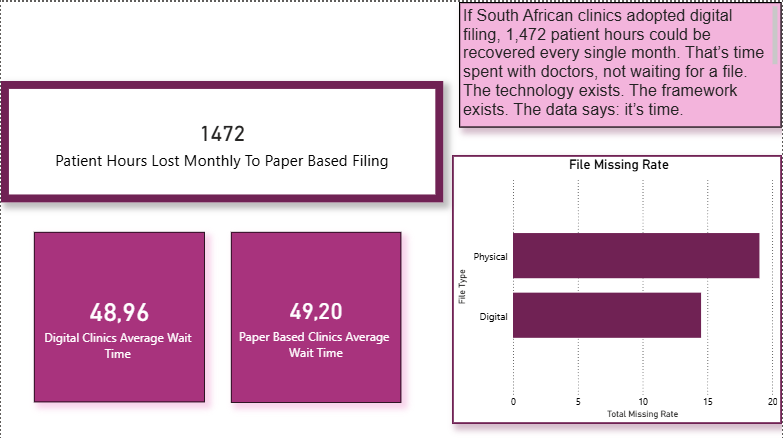

The page's visual inventory and layout, read from the dashboard file:
{"tool":"powerbi","page":{"name":"The Case For Change","canvas":[1280,720],"ordinal":3},"visuals":[{"type":"card","fields":{"Values":["Avg(vw_AvgWaitByClinic.avg_file_wait)"]},"box":[377.3,377.3,278.6,280.3],"z":0},{"type":"card","fields":{"Values":["Avg(vw_AvgWaitByClinic.avg_file_wait)"]},"box":[54.7,377.3,280.3,278.6],"z":1000},{"type":"clusteredBarChart","title":"File Missing Rate","fields":{"Category":["vw_DigitalVsPhysical.file_type"],"Y":["Sum(vw_DigitalVsPhysical.missing_rate_pct)"]},"box":[738.7,250.4,541.3,440.8],"z":2000},{"type":"card","fields":{"Values":["Min(Table.Column1)"]},"box":[0,128.7,724.6,199.2],"z":3000},{"type":"textbox","box":[751.1,0,528.9,206.3],"z":4000}]}

Visuals, with their boxes in screenshot pixels (x1, y1, x2, y2), scaled from the page's 1280x720 canvas onto the 783x438 screenshot:
card - Avg(vw_AvgWaitByClinic.avg_file_wait): [231,230,401,400]
card - Avg(vw_AvgWaitByClinic.avg_file_wait): [33,230,205,399]
"File Missing Rate" clusteredBarChart: [452,152,782,420]
card - Min(Table.Column1): [0,78,443,199]
textbox: [459,0,782,125]
